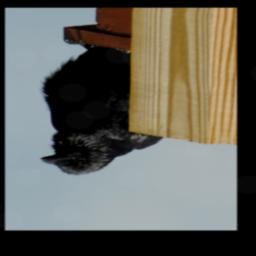Crow: (30, 38, 171, 179)
